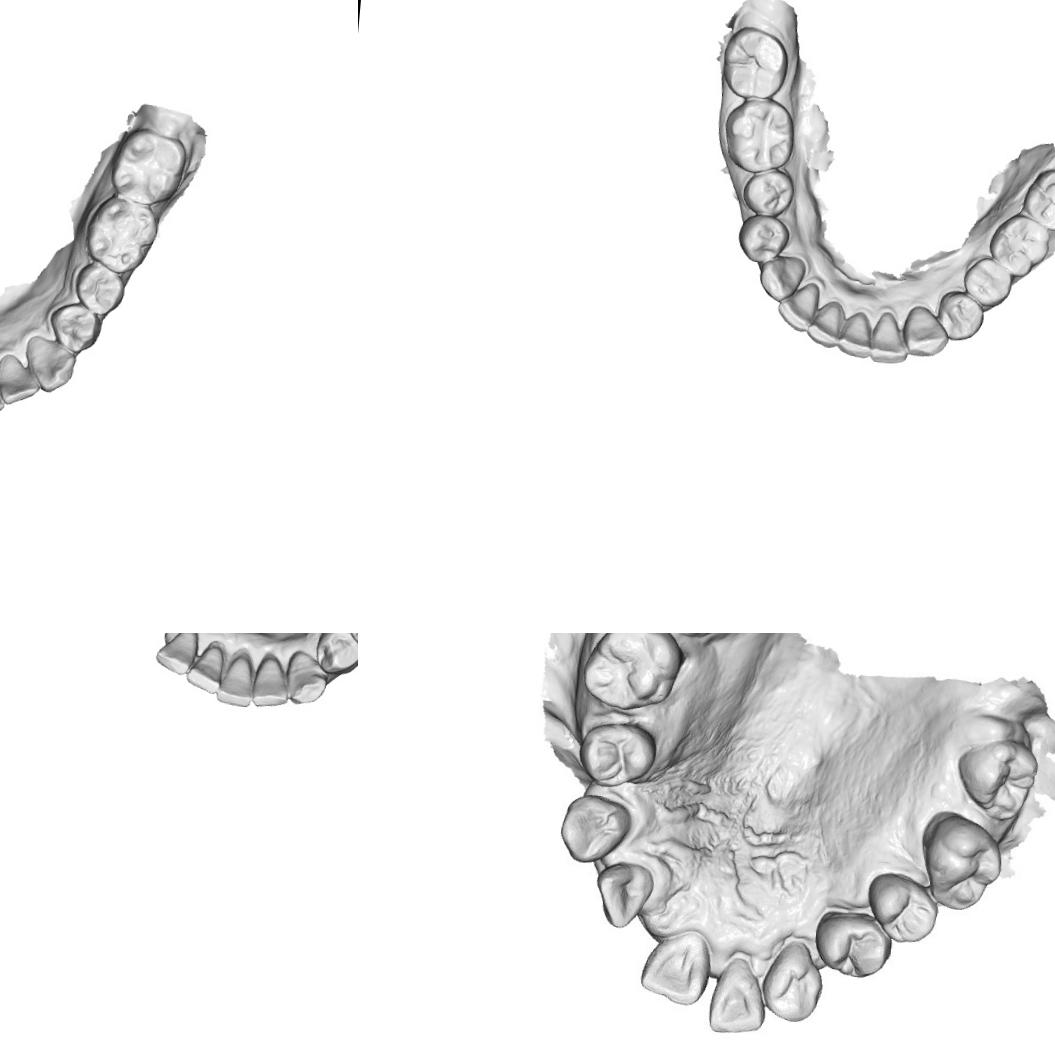canine: (760, 939, 830, 1028), (559, 794, 631, 868), (20, 333, 82, 396), (899, 302, 951, 360), (283, 648, 330, 706), (756, 252, 808, 304)
incisor: (636, 925, 711, 1009), (705, 958, 766, 1040), (592, 856, 654, 932), (0, 348, 43, 409), (774, 280, 820, 334), (249, 652, 291, 710), (214, 649, 255, 708), (868, 310, 910, 366), (184, 638, 224, 695), (804, 297, 845, 350), (153, 633, 199, 676), (836, 308, 873, 360)
molar: (912, 805, 1008, 916), (948, 733, 1040, 824), (106, 124, 192, 210), (80, 189, 162, 279), (582, 633, 680, 708), (720, 93, 798, 176), (718, 23, 791, 102), (986, 210, 1053, 280), (1019, 166, 1055, 232)
premolar: (562, 713, 662, 794), (861, 867, 942, 947), (814, 907, 894, 986), (44, 299, 108, 356), (70, 259, 129, 318), (739, 165, 796, 218), (960, 253, 1014, 308), (734, 212, 790, 264), (934, 288, 985, 342), (312, 633, 358, 676)
